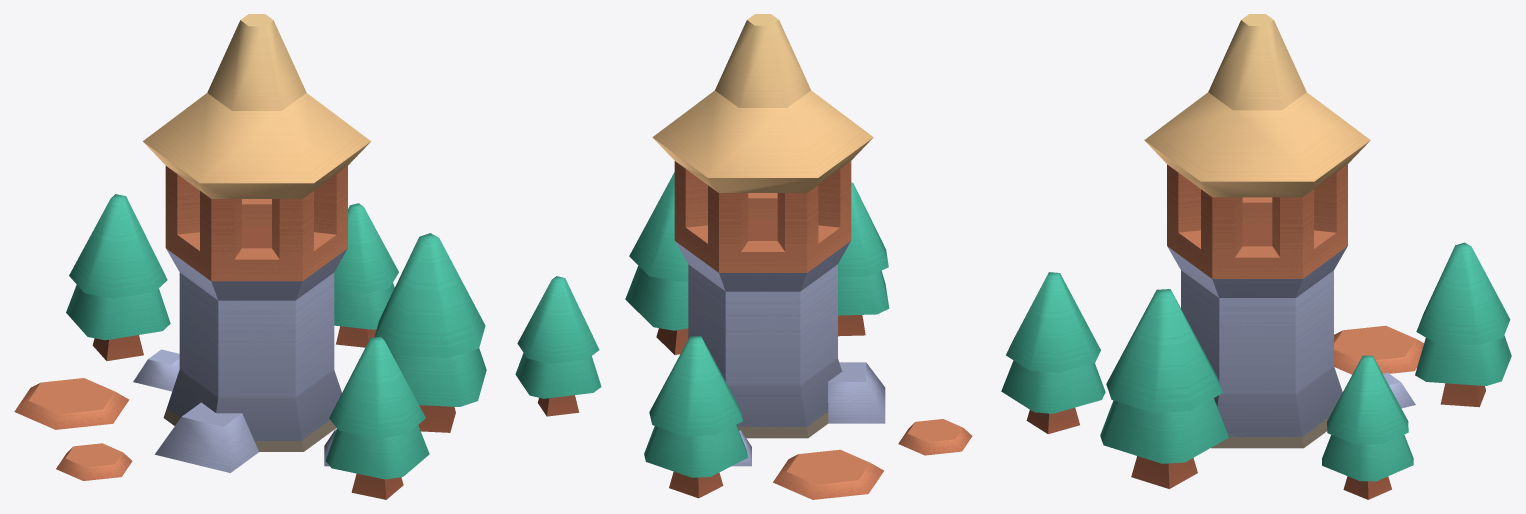
Rendered from hx_building-tower.glb.
3 views of the same model, side by side, from view 1: azimuth 30°, elevation 25°; view 2: azimuth 150°, elevation 25°; view 3: azimuth 270°, elevation 25° (orthographic). The views are drawn at different scales.
Bounding box in the file's own units: 0.8608 × 0.82 × 0.9622.
Materials: 1 (1 with a texture image).
